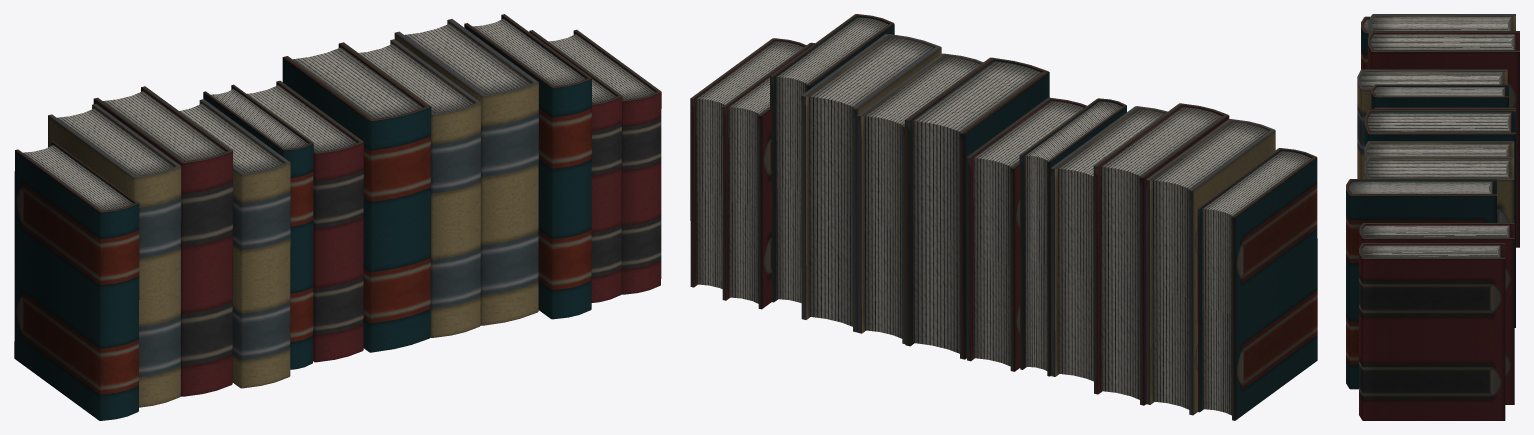
File: CI_074_books_long_reversed.glb
3 views of the same model, side by side, from view 1: azimuth 30°, elevation 25°; view 2: azimuth 150°, elevation 25°; view 3: azimuth 270°, elevation 25° (orthographic). The views are drawn at different scales.
Visible parts, largest first — view 1: book_12, book_10, book_11, book_8, book_9, book_4, book_3, book_2, book_7, book_5, book_1, book_6; view 2: book_12, book_10, book_11, book_4, book_8, book_7, book_2, book_3, book_6, book_9, book_1, book_5; view 3: book_5, book_9, book_8, book_10, book_6, book_11, book_3, book_1, book_4, book_2, book_12, book_7.
Part boxes in pixels (<box>): book_12: <box>14,141,139,420</box>; book_10: <box>282,42,431,352</box>; book_11: <box>394,19,538,325</box>; book_8: <box>93,86,232,396</box>; book_9: <box>464,14,591,319</box>; book_4: <box>48,104,181,407</box>; book_3: <box>179,99,290,388</box>; book_2: <box>359,39,481,337</box>; book_7: <box>247,80,363,362</box>; book_5: <box>548,29,661,294</box>; book_1: <box>203,84,313,369</box>; book_6: <box>529,30,622,302</box>; book_12: <box>1197,148,1317,420</box>; book_10: <box>905,57,1049,359</box>; book_11: <box>801,34,941,332</box>; book_4: <box>1146,119,1275,415</box>; book_8: <box>1093,103,1229,405</box>; book_7: <box>966,97,1086,371</box>; book_2: <box>857,53,983,343</box>; book_3: <box>1050,106,1167,381</box>; book_6: <box>722,42,814,309</box>; book_9: <box>770,14,894,303</box>; book_1: <box>1019,98,1126,376</box>; book_5: <box>690,38,806,288</box>; book_5: <box>1359,243,1505,420</box>; book_9: <box>1346,179,1496,389</box>; book_8: <box>1368,31,1519,247</box>; book_10: <box>1364,109,1515,327</box>; book_6: <box>1359,222,1514,404</box>; book_11: <box>1364,156,1514,222</box>; book_3: <box>1357,69,1507,178</box>; book_1: <box>1371,84,1508,108</box>; book_4: <box>1368,14,1515,36</box>; book_2: <box>1364,141,1514,163</box>; book_12: <box>1361,16,1370,69</box>; book_7: <box>1374,107,1515,108</box>.
Size of the model in its own units: 1.89 by 0.7532 by 0.6059.
Materials: 1 (1 with a texture image).
